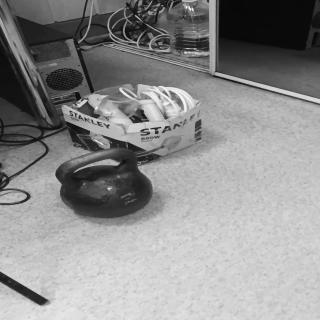girya: (58, 148, 157, 218)
